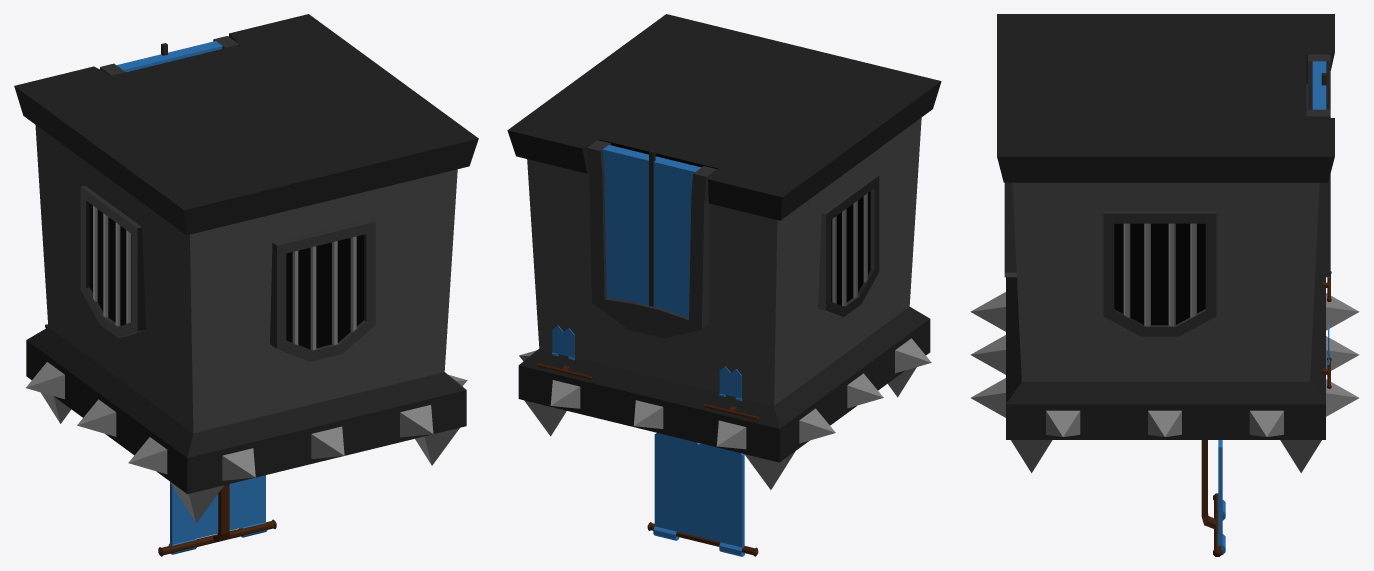
File: tower1.fbx
The picture shows the model from 3 angles, left to right: view 1: azimuth 30°, elevation 25°; view 2: azimuth 150°, elevation 25°; view 3: azimuth 270°, elevation 25°; orthographic projection. The views are drawn at different scales.
Parts seen in each view (by area): view 1: CastleBlueD; view 2: CastleBlueD; view 3: CastleBlueD.
Boxes of the visible parts, box(x1,y1,x2,y2) form: CastleBlueD: box(14, 14, 478, 556); CastleBlueD: box(507, 14, 941, 556); CastleBlueD: box(970, 14, 1359, 556).
Size of the model in its own units: 271 by 351 by 271.
3 materials, 2 textured.
